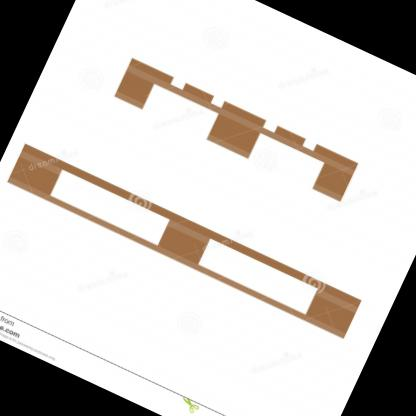BoxFace: (6, 140, 363, 344), (115, 52, 361, 206)
